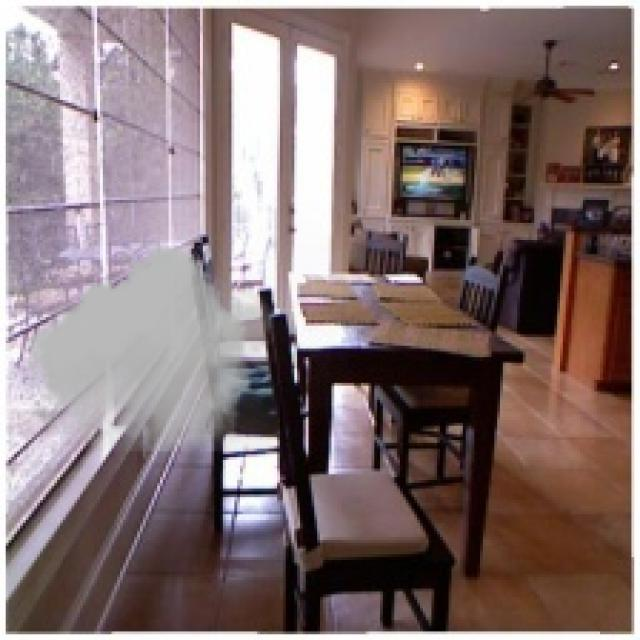smoke: (23, 246, 280, 451)
